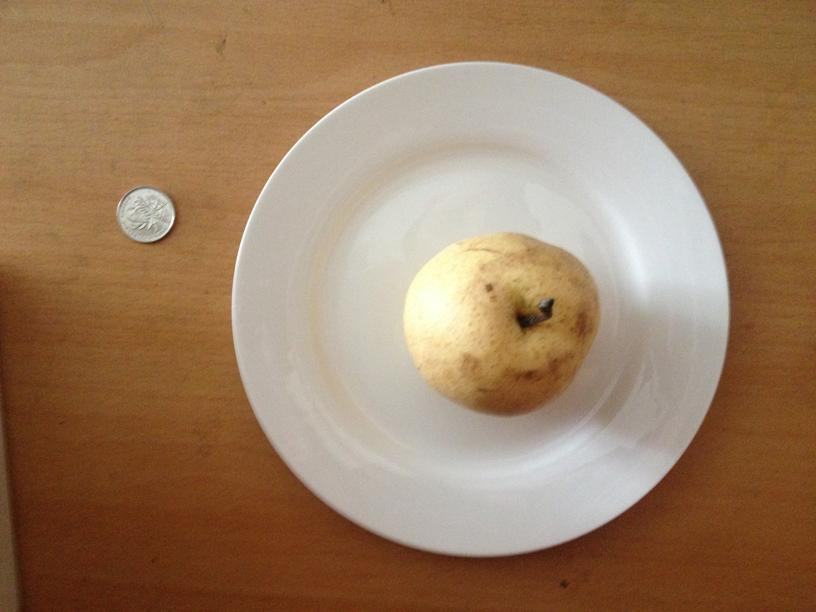coin: (116, 184, 177, 244)
pear: (399, 232, 601, 417)
